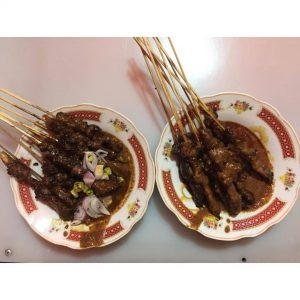sate_madura: (152, 55, 275, 214), (2, 89, 121, 213)
